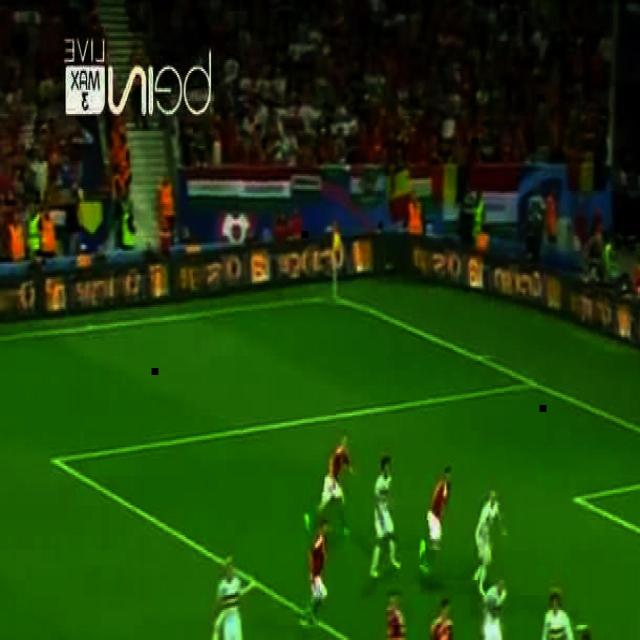player-white: (304, 436, 352, 538), (370, 454, 402, 578), (420, 465, 452, 579), (302, 520, 331, 629), (474, 488, 501, 598), (217, 558, 250, 640), (482, 576, 508, 640), (539, 593, 574, 640), (430, 597, 466, 640), (382, 591, 412, 640), (572, 630, 612, 640)
